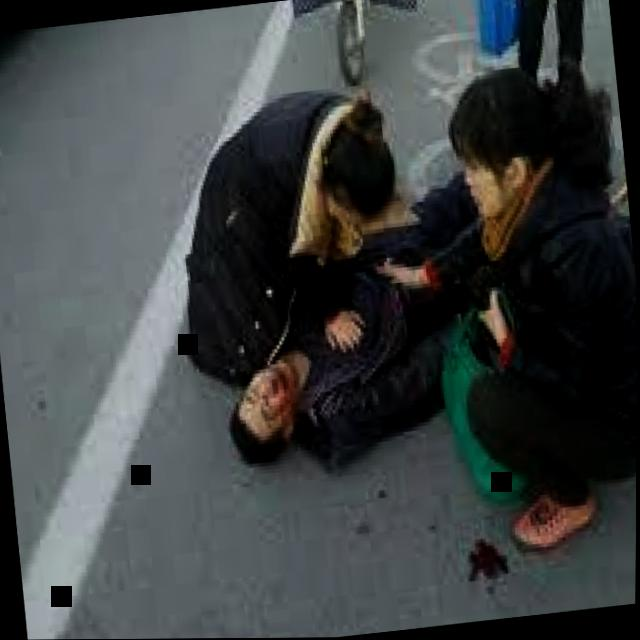Fall-Detected: (211, 110, 541, 469)
